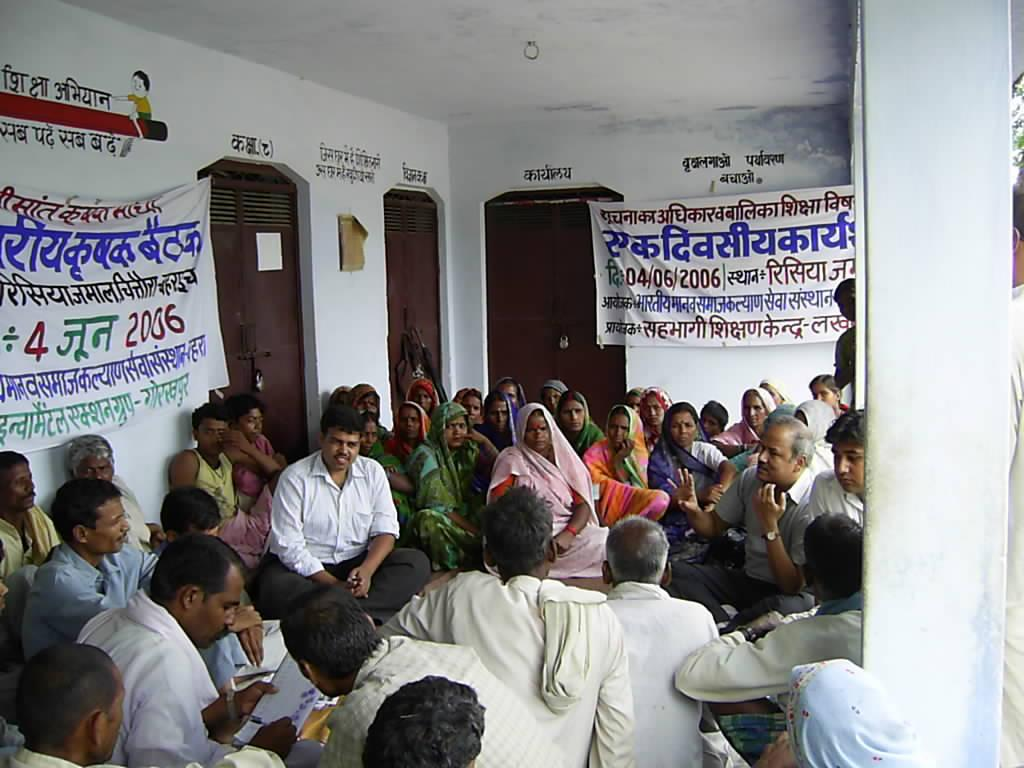face: (184, 575, 242, 648), (831, 440, 874, 492), (88, 500, 129, 553), (758, 430, 797, 483), (103, 682, 124, 763), (1, 463, 36, 511), (325, 428, 360, 468), (184, 525, 220, 561), (78, 461, 115, 492), (202, 420, 228, 455), (527, 415, 552, 450), (237, 409, 264, 441), (672, 415, 697, 446), (443, 415, 468, 446), (561, 403, 586, 432), (400, 408, 422, 440), (609, 414, 630, 444), (744, 397, 767, 424), (812, 386, 837, 410), (642, 399, 664, 426), (360, 421, 379, 452), (489, 402, 510, 430), (497, 384, 518, 412), (543, 389, 565, 412), (412, 388, 433, 412), (836, 296, 855, 322), (462, 398, 480, 424), (358, 395, 377, 417), (627, 396, 644, 419), (794, 414, 811, 437), (702, 417, 720, 438)
